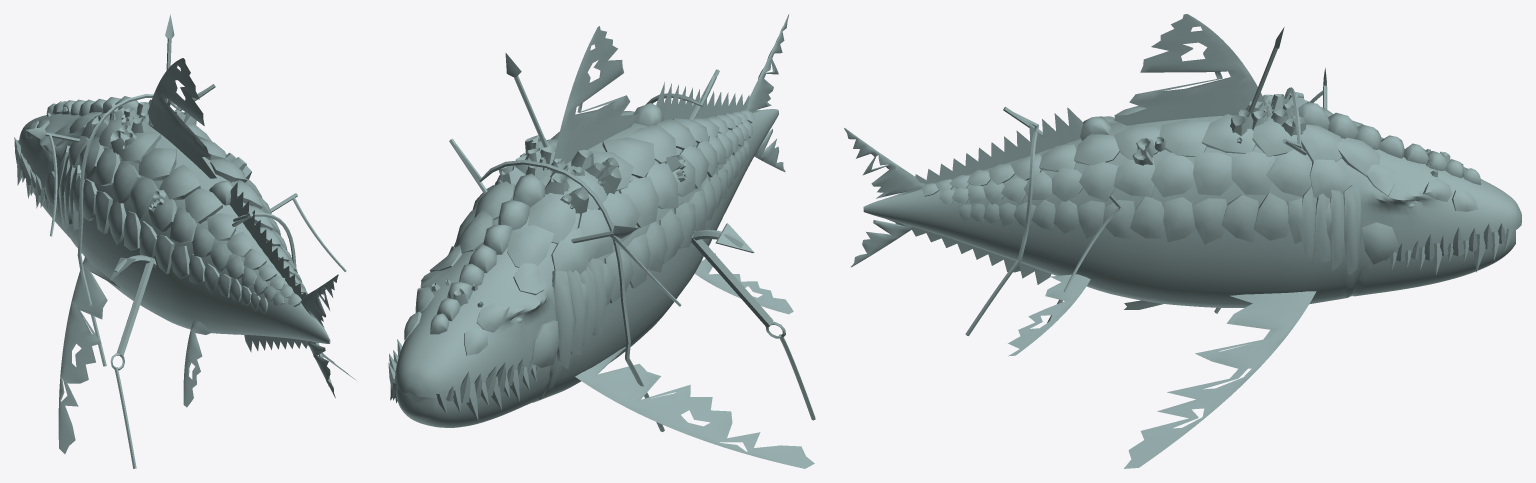
Rendered from leviathan.glb.
The picture shows the model from 3 angles, left to right: view 1: azimuth 30°, elevation 25°; view 2: azimuth 150°, elevation 25°; view 3: azimuth 270°, elevation 25°; orthographic projection. The views are drawn at different scales.
Parts seen in each view (by area): view 1: leviathan; view 2: leviathan; view 3: leviathan.
Boxes of the visible parts, x1,y1,x2,y2 form: leviathan: [14, 14, 356, 468]; leviathan: [388, 14, 815, 468]; leviathan: [844, 14, 1521, 468].
Size of the model in its own units: 22.18 by 24.73 by 39.98.
